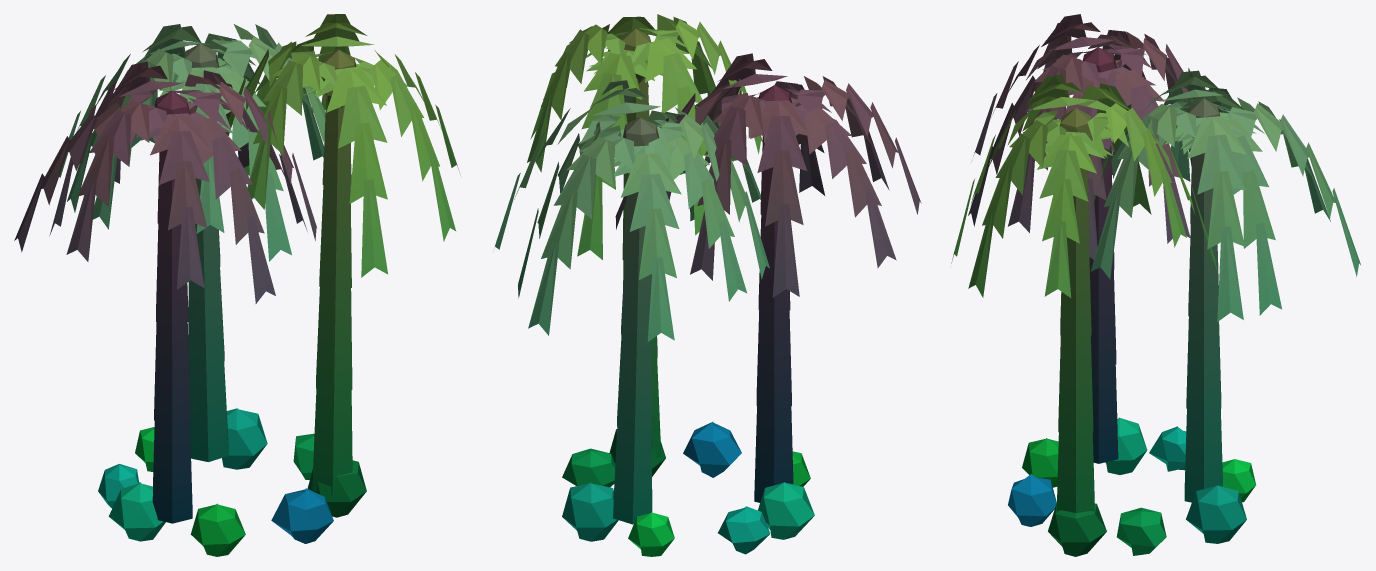
The model's file is palm_04.glb.
3 views of the same model, side by side, from view 1: azimuth 30°, elevation 25°; view 2: azimuth 150°, elevation 25°; view 3: azimuth 270°, elevation 25° (orthographic). The views are drawn at different scales.
Parts seen in each view (by area): view 1: palm_04; view 2: palm_04; view 3: palm_04.
Boxes of the visible parts, x1,y1,x2,y2 form: palm_04: (14,14,460,556); palm_04: (495,14,921,556); palm_04: (951,14,1360,556).
Bounding box in the file's own units: 0.94 × 1.05 × 0.8627.
